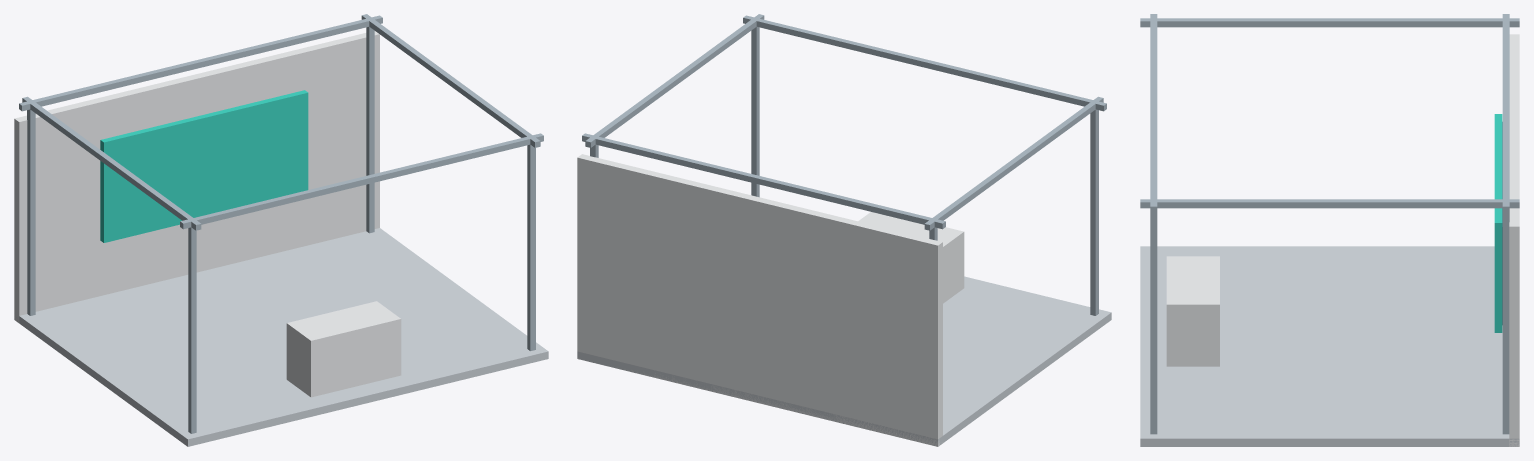
3 renders of one model, left to right at view 1: azimuth 30°, elevation 25°; view 2: azimuth 150°, elevation 25°; view 3: azimuth 270°, elevation 25°, orthographic. The views are drawn at different scales.
Parts seen in each view (by area): view 1: Exhibition Booth Concept; view 2: Exhibition Booth Concept; view 3: Exhibition Booth Concept.
Part boxes in pixels (bbox=[...]): Exhibition Booth Concept: bbox=[14, 14, 548, 446]; Exhibition Booth Concept: bbox=[577, 14, 1111, 446]; Exhibition Booth Concept: bbox=[1140, 14, 1519, 446].
Size of the model in its own units: 6 by 3.49 by 5.
